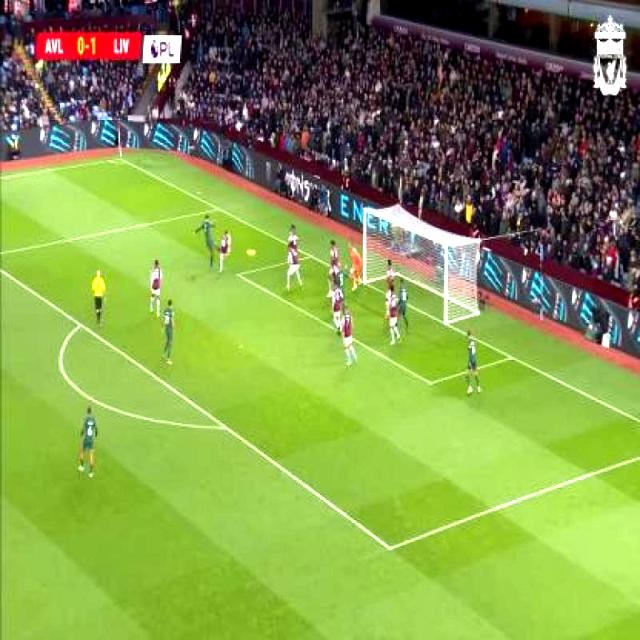bigarea_bottom_inner: (383, 537, 397, 560)
bigarea_top_outter: (214, 202, 221, 215)
bottom_arc_area_intersection: (218, 418, 232, 437)
corner: (114, 154, 125, 168)
smallarea_bottom_inner: (426, 374, 437, 392)
smallarea_bottom_outter: (508, 350, 516, 365)
smallarea_top_inner: (235, 268, 242, 282)
smallarea_top_outter: (308, 250, 314, 262)
top_arc_area_intersection: (77, 317, 85, 331)
